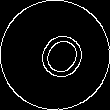O_SW: (23, 22, 87, 88)
